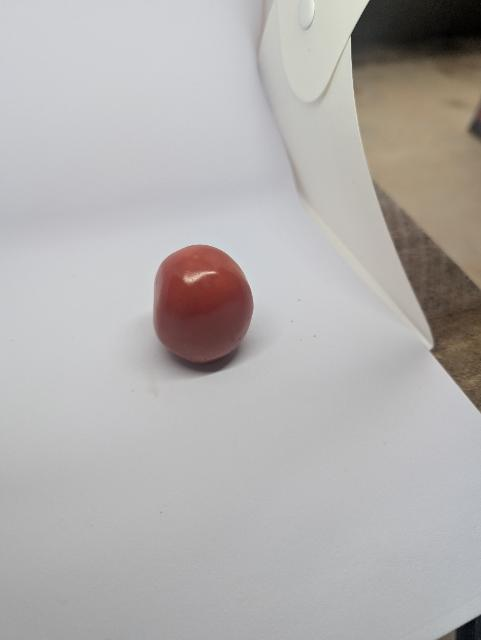red: (148, 241, 264, 376)
